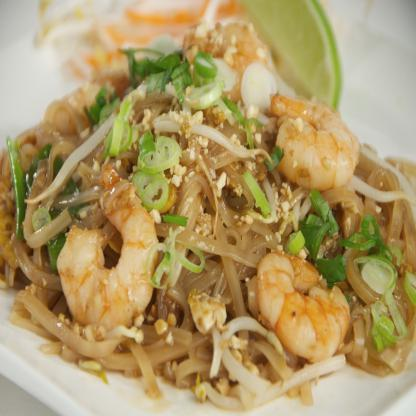Pad Thai: (3, 33, 415, 415)
